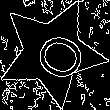O_NW: (20, 22, 84, 83)
